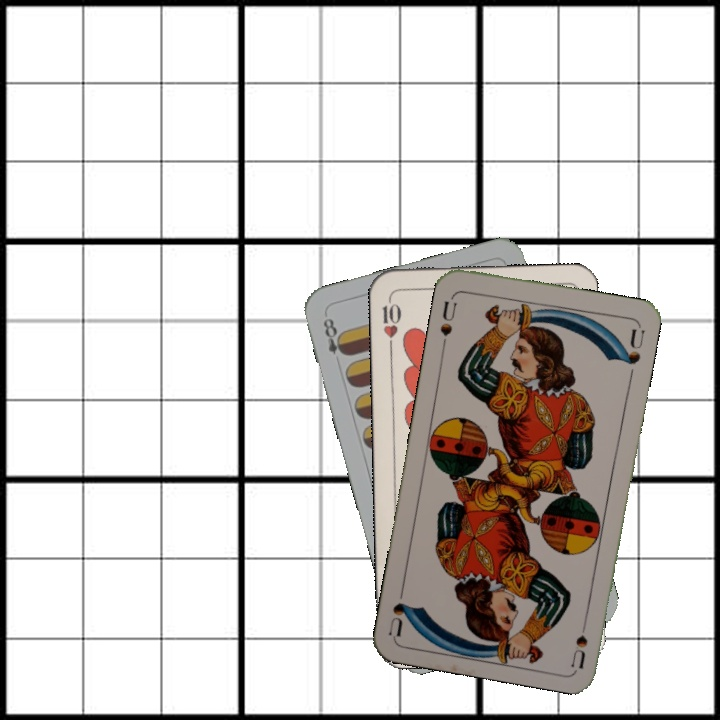E8: (319, 314, 350, 359)
H10: (378, 293, 403, 352)
SU: (567, 609, 591, 669), (436, 291, 460, 350)
